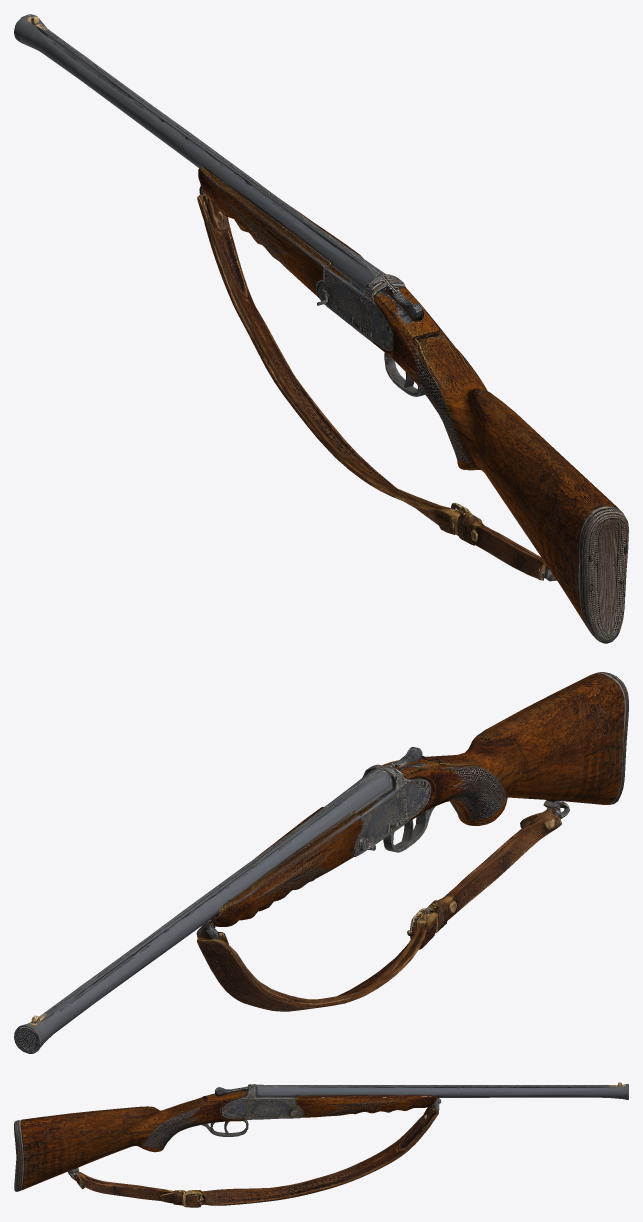
The model's file is choke.glb.
3 renders of one model, top to bottom at view 1: azimuth 30°, elevation 25°; view 2: azimuth 150°, elevation 25°; view 3: azimuth 270°, elevation 25°, orthographic. The views are drawn at different scales.
Parts seen in each view (by area): view 1: body, pump; view 2: body, pump; view 3: body, pump.
Part boxes in pixels (x1,y1,x2,y2): body: (14,14,628,643); pump: (192,161,329,300); body: (14,672,628,1053); pump: (196,817,360,954); body: (14,1082,628,1207); pump: (296,1095,445,1121).
Size of the model in its own units: 0.0627 by 0.2473 by 1.15.
1 material, 1 textured.
